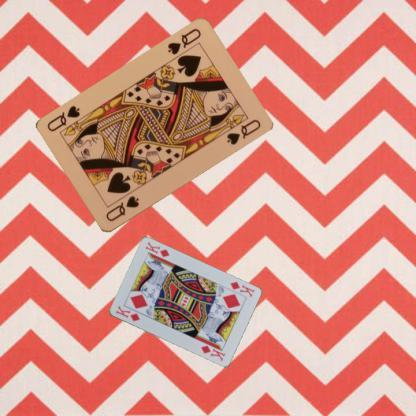Kd: (226, 279, 256, 299), (113, 304, 141, 322)
Qs: (164, 26, 202, 57), (102, 194, 140, 224)
